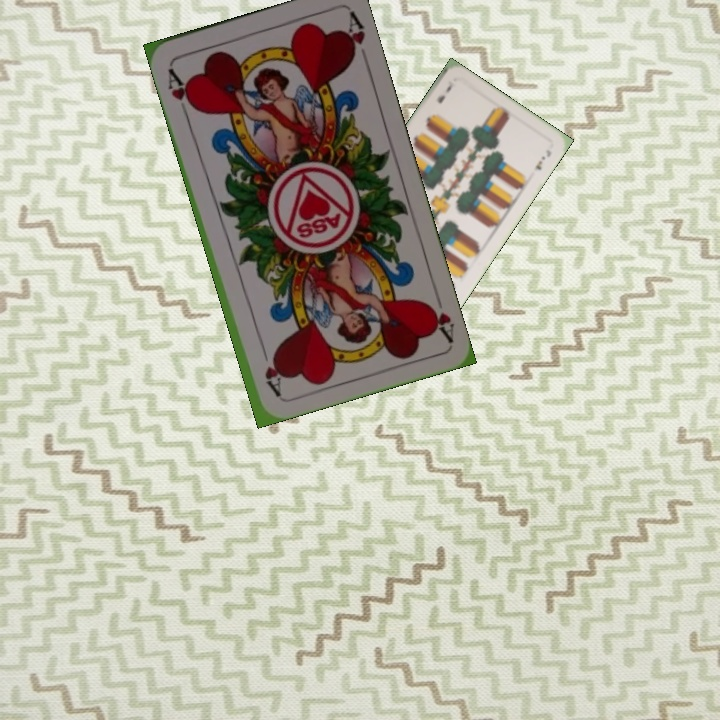E7: (433, 76, 456, 106)
HA: (164, 64, 198, 120), (422, 298, 457, 344)
